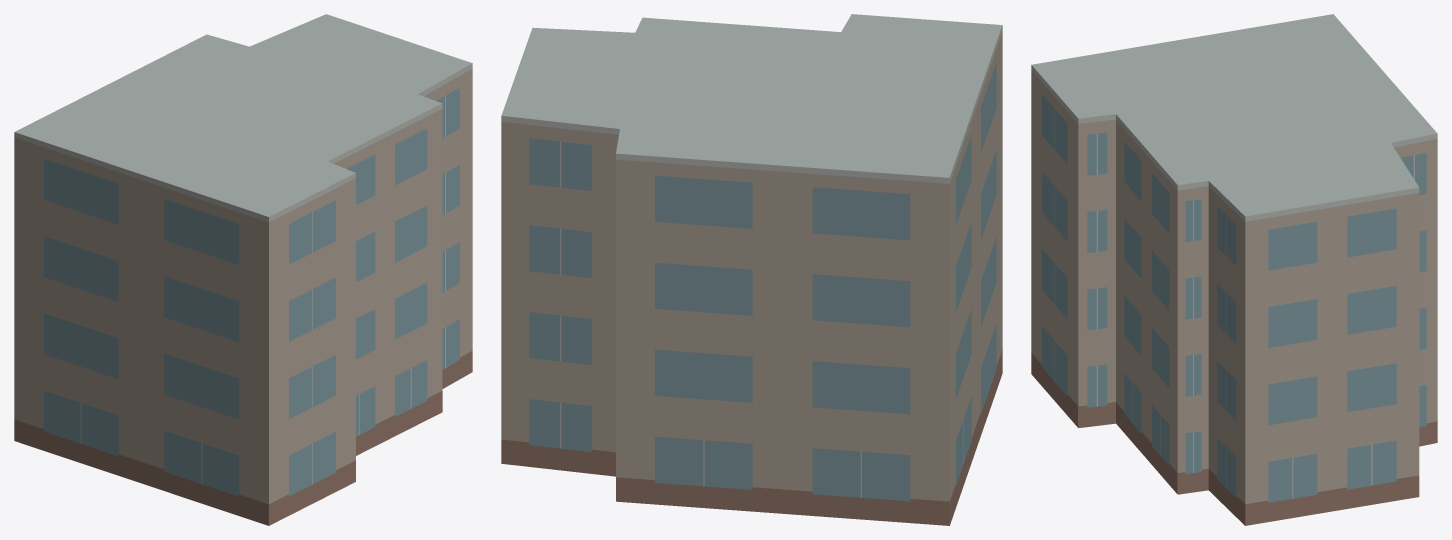
File: survey-upis-32861563.glb
The picture shows the model from 3 angles, left to right: view 1: azimuth 30°, elevation 25°; view 2: azimuth 150°, elevation 25°; view 3: azimuth 270°, elevation 25°; orthographic projection. The views are drawn at different scales.
Parts seen in each view (by area): view 1: survey-upis-32861563.tmp; view 2: survey-upis-32861563.tmp; view 3: survey-upis-32861563.tmp.
Part boxes in pixels (x1,y1,x2,y2): survey-upis-32861563.tmp: [14, 14, 472, 525]; survey-upis-32861563.tmp: [501, 14, 1002, 525]; survey-upis-32861563.tmp: [1031, 14, 1437, 525].
Bounding box in the file's own units: 19.83 × 14.12 × 16.81.
